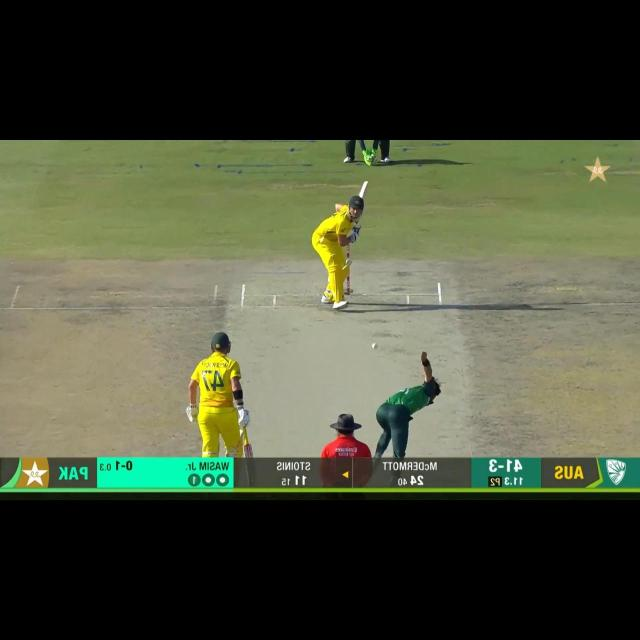bat: (355, 178, 373, 199), (240, 444, 256, 458)
toe: (361, 179, 372, 188)
